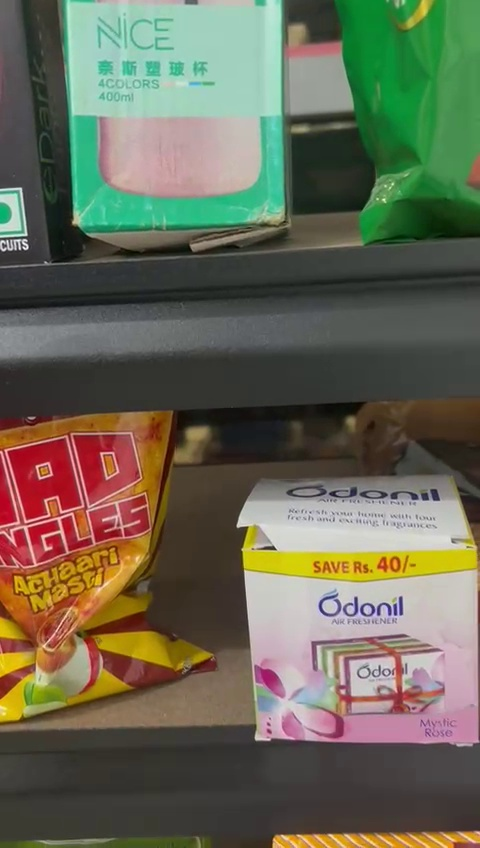Exo Soap: (244, 483, 480, 749)
